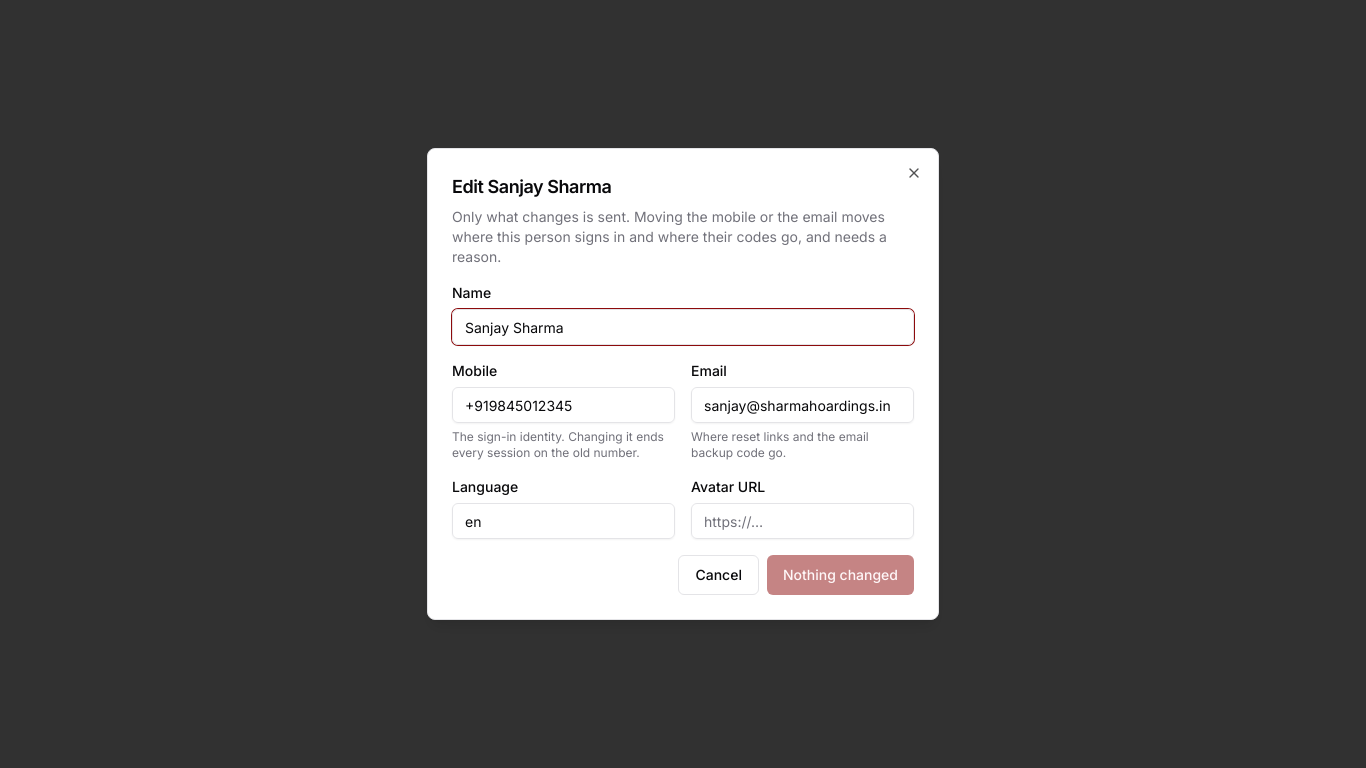
Test: EditUserDialog › prints a 409 CONTACT_TAKEN as whose the value already is
The width and height of the screenshot is (1366, 768).
Replace the text in the field labelled "Mobile" with "+919900000000": (564, 405) x1=452 y1=387 x2=675 y2=423
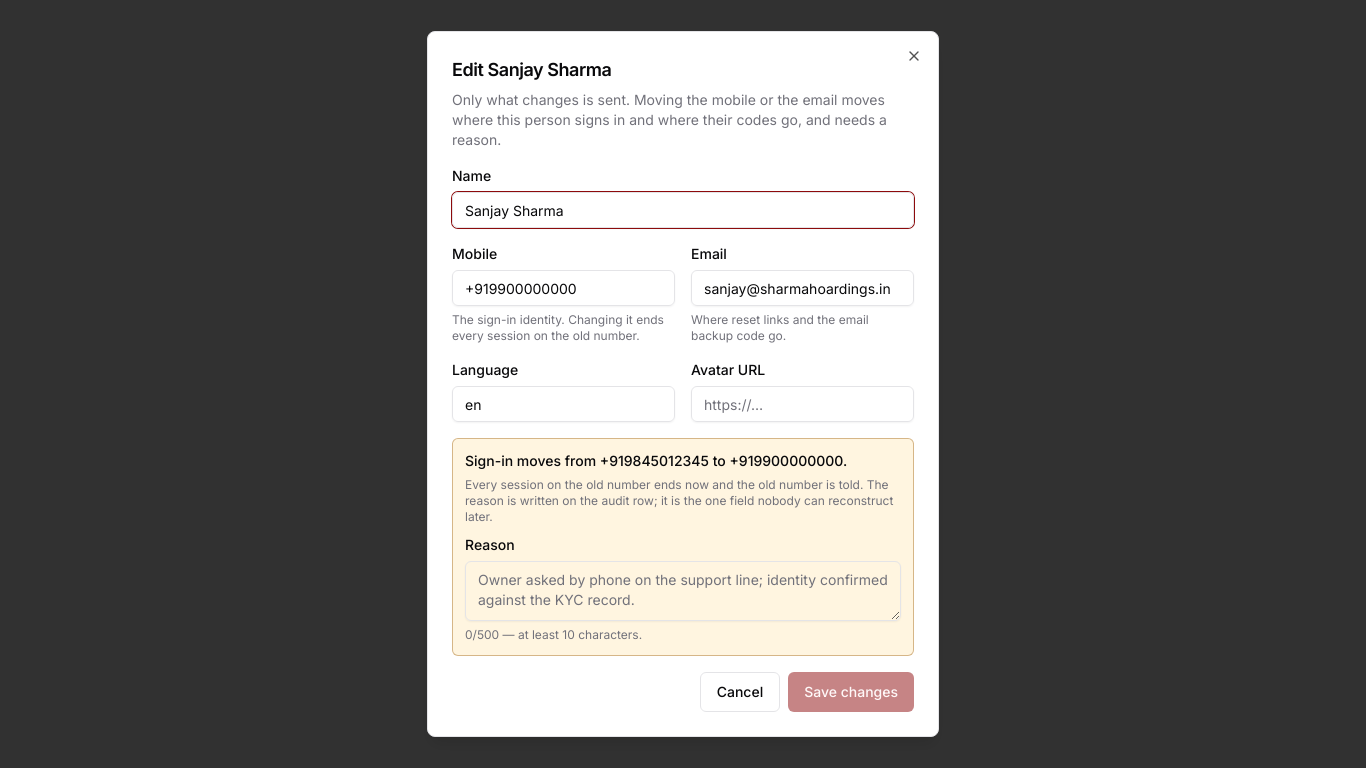
Replace the text in the text box labelled "Reason" with "Owner replaced the SIM and asked for the move.": (683, 591) x1=465 y1=561 x2=901 y2=621
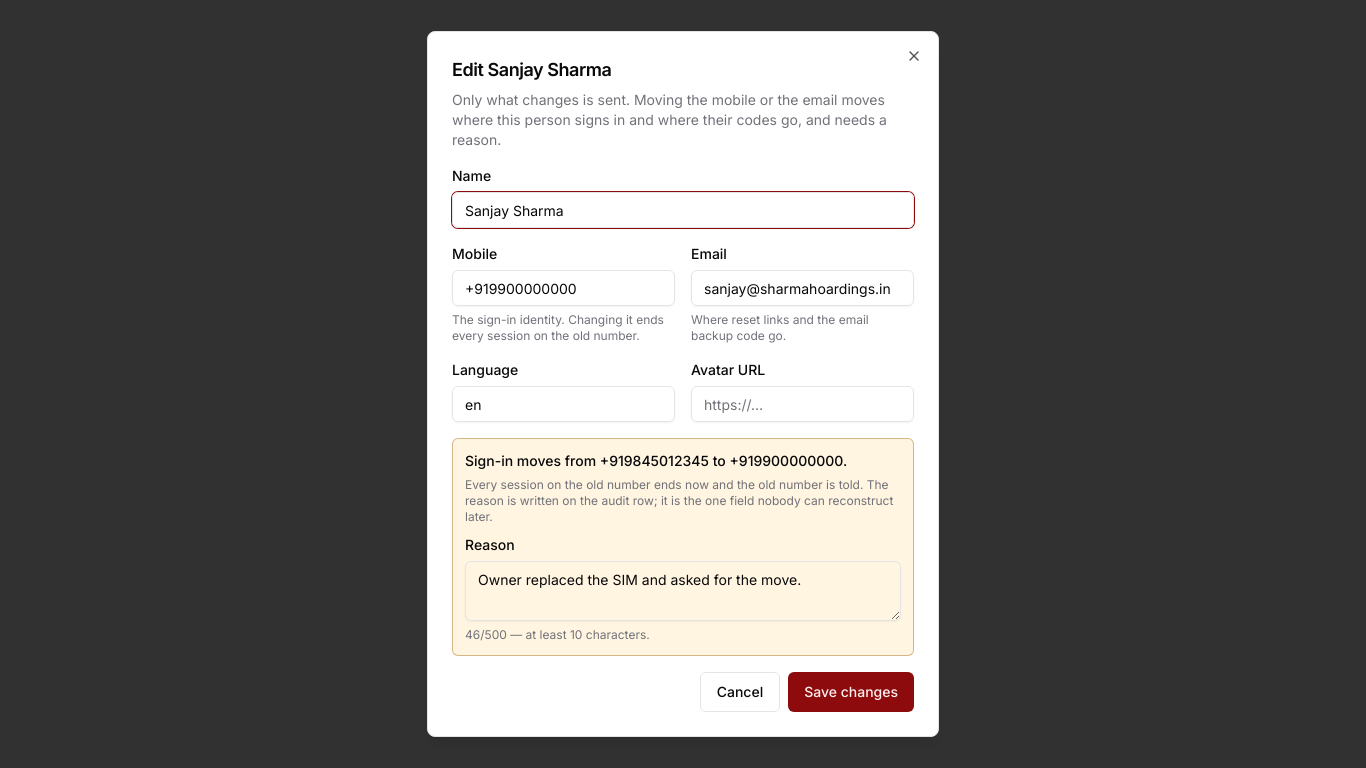
Click the button "Save changes": click(851, 692) x1=788 y1=672 x2=914 y2=712
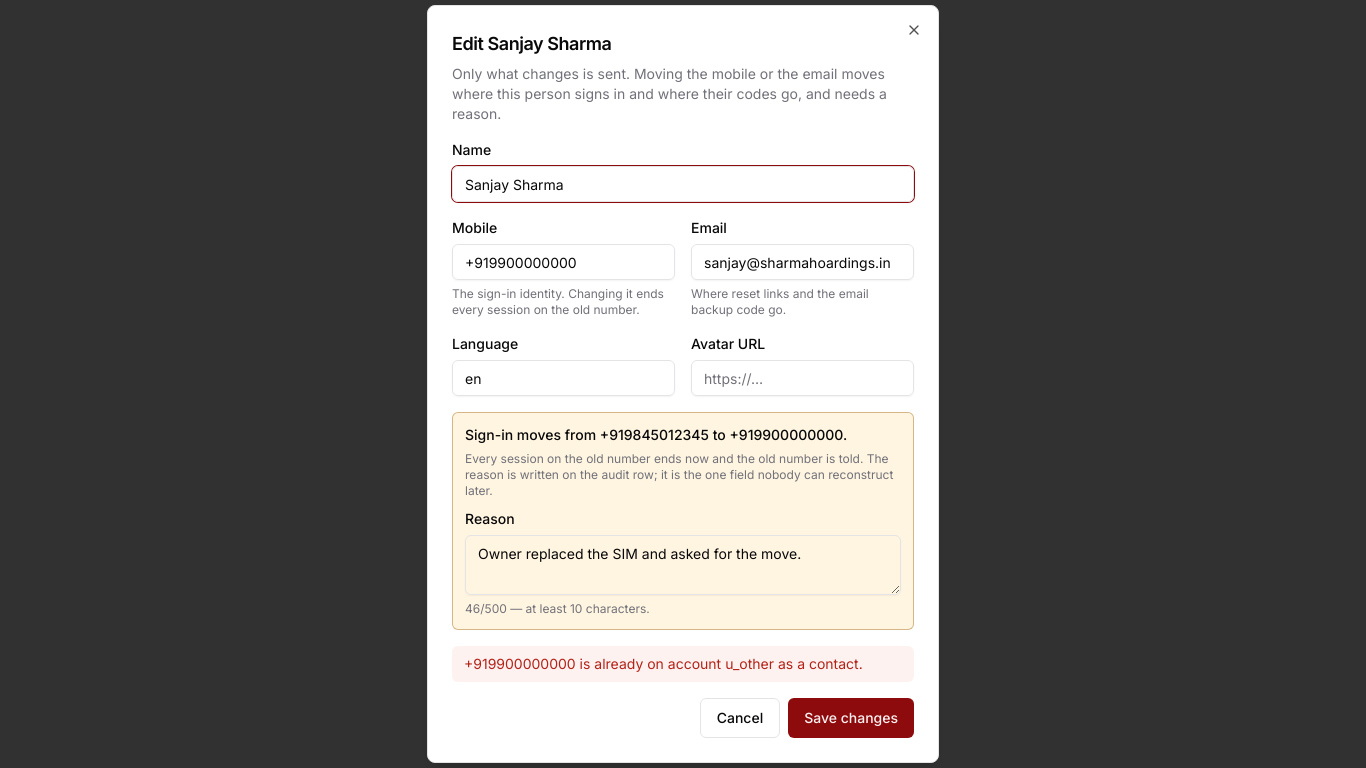
Check: the message reads "+919900000000 is already on account u_other as a contact.", box x1=464 y1=655 x2=863 y2=672
